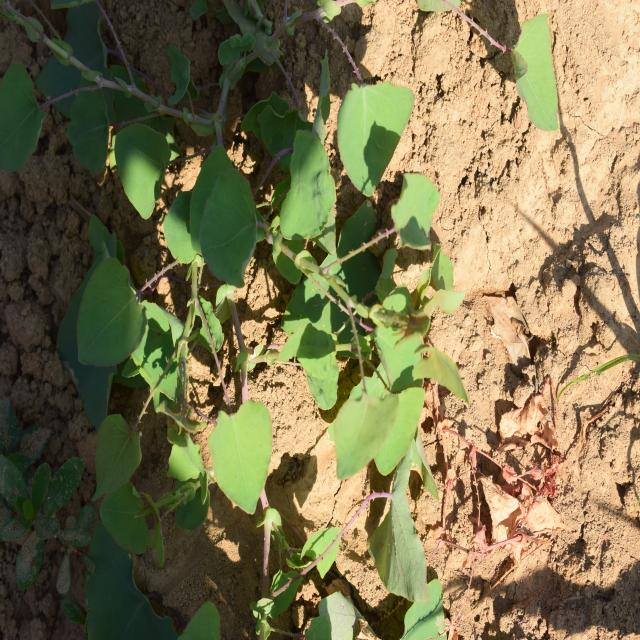Asiatic_Smartweed: (71, 168, 279, 537), (285, 73, 459, 480), (0, 2, 186, 209)
